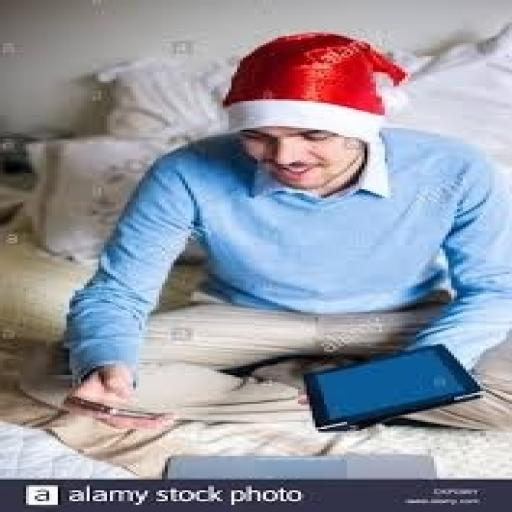using_laptop: (298, 340, 486, 432)
